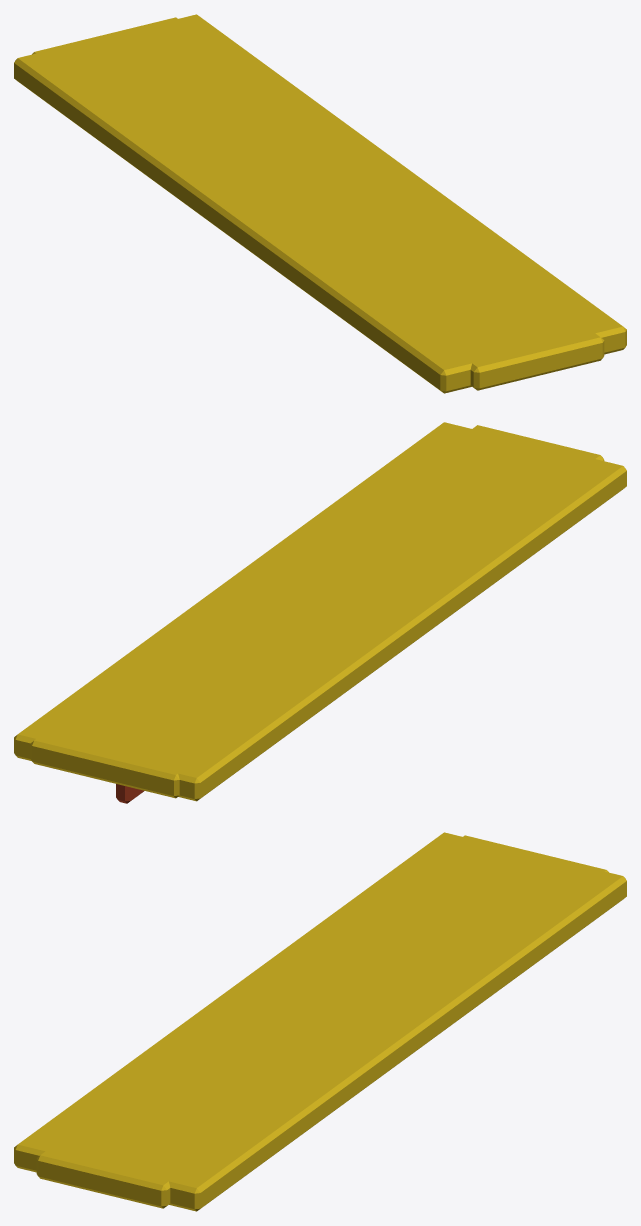
File: PRP_Surfboard_BCH_v001.glb
3 views of the same model, one above another, from view 1: azimuth 30°, elevation 25°; view 2: azimuth 150°, elevation 25°; view 3: azimuth 330°, elevation 25° (orthographic).
Parts seen in each view (by area): view 1: PRP_Surfboard_BCH_v001; view 2: PRP_Surfboard_BCH_v001; view 3: PRP_Surfboard_BCH_v001.
Part boxes in pixels (box(x1,y1,x2,y2)): PRP_Surfboard_BCH_v001: box(14, 14, 626, 393); PRP_Surfboard_BCH_v001: box(14, 422, 626, 803); PRP_Surfboard_BCH_v001: box(14, 832, 626, 1211).
Size of the model in its own units: 0.5 by 0.15 by 2.03.
